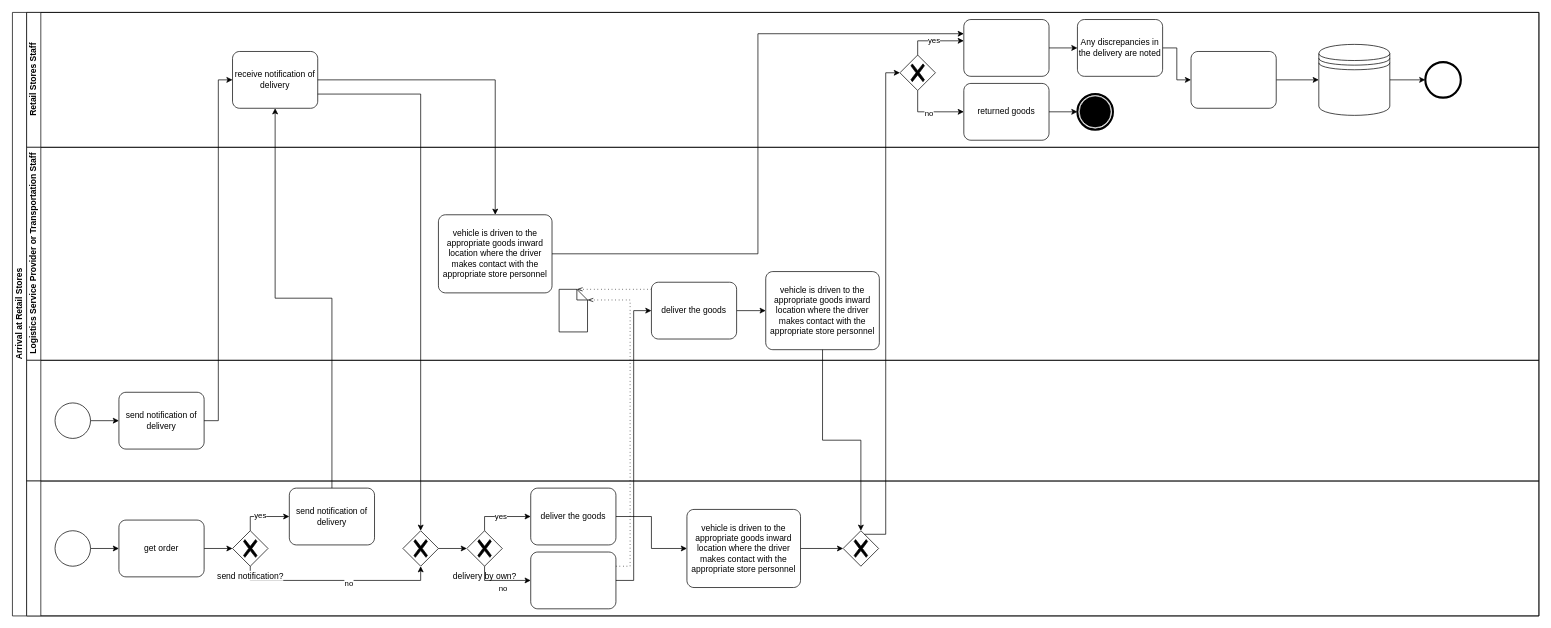
Image size: 1551x628. Some labels were removed from this diagram. The box of each missing label's shape, as (x1, y1, x2, y2) in pixels:
data stored in TMS, WMS and POT system: (1318, 44, 1390, 115)
Distribution Centre Staff: (26, 360, 1539, 481)
Goods for the store are checked against the delivery note and are unloaded: (963, 19, 1049, 76)
in certain hour?: (899, 54, 935, 91)
Local providers: (26, 480, 1539, 616)
order created: (558, 289, 588, 332)
place order to logistics service provider: (530, 551, 616, 609)
the delivery is signed for by store personnel: (1190, 51, 1276, 108)
